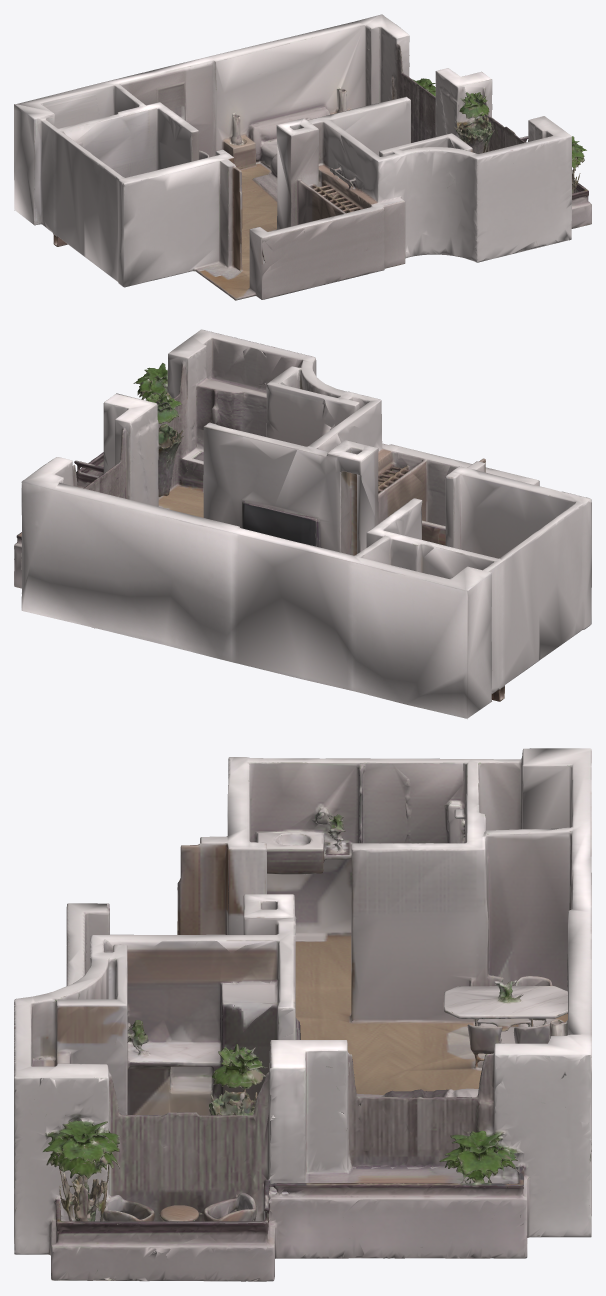
3 views of the same model, one above another, from view 1: azimuth 30°, elevation 25°; view 2: azimuth 150°, elevation 25°; view 3: azimuth 270°, elevation 25° (orthographic). The views are drawn at different scales.
Parts seen in each view (by area): view 1: Mesh_0; view 2: Mesh_0; view 3: Mesh_0.
Part boxes in pixels (bbox=[...]): Mesh_0: bbox=[14, 14, 591, 300]; Mesh_0: bbox=[14, 329, 591, 718]; Mesh_0: bbox=[14, 748, 591, 1281].
Bounding box in the file's own units: 1.91 × 0.5121 × 1.33.
Materials: 1 (1 with a texture image).
